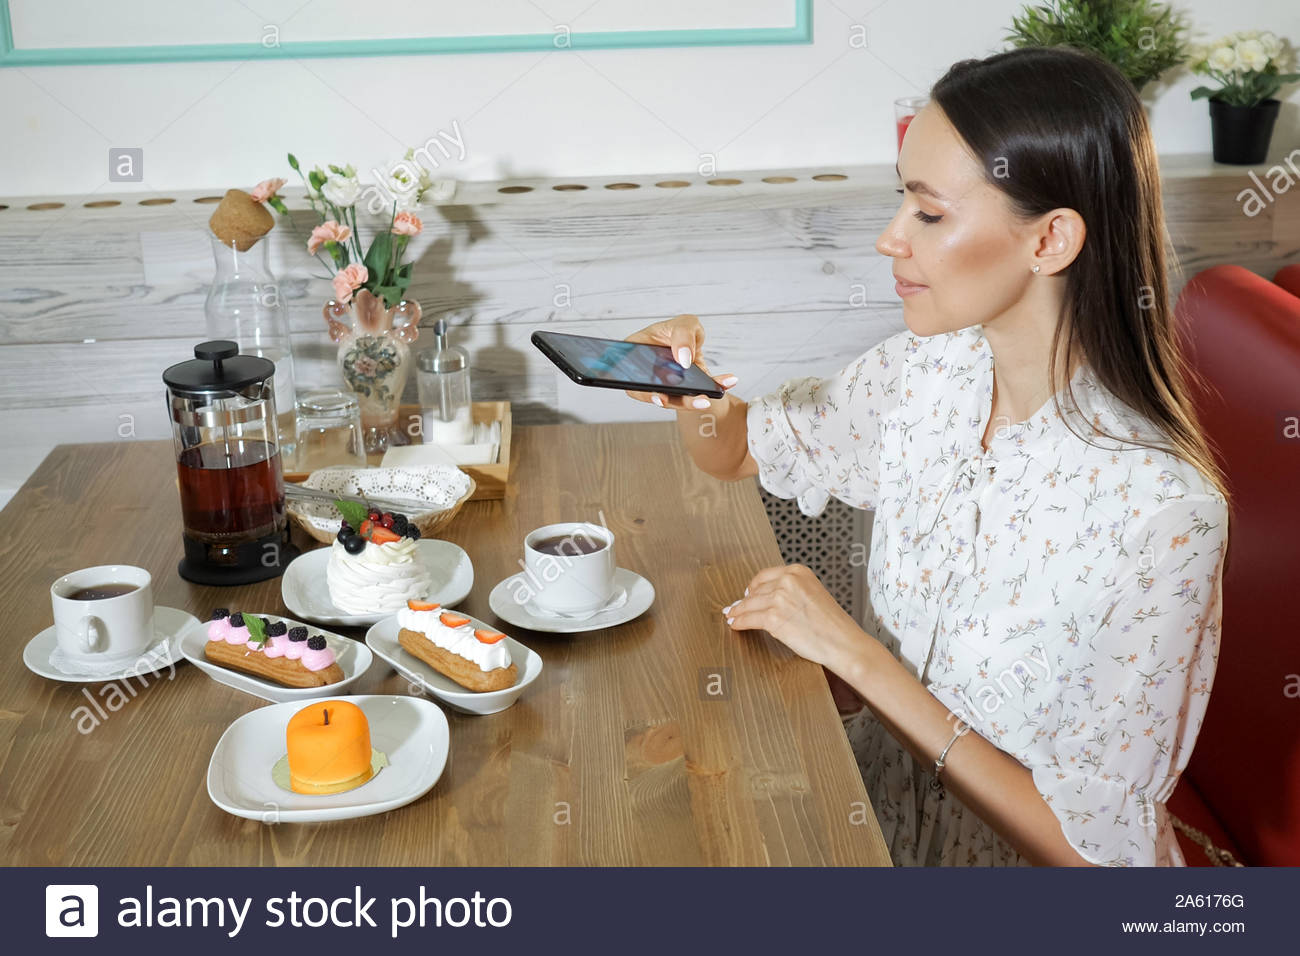Cell Phone: (530, 329, 727, 400)
